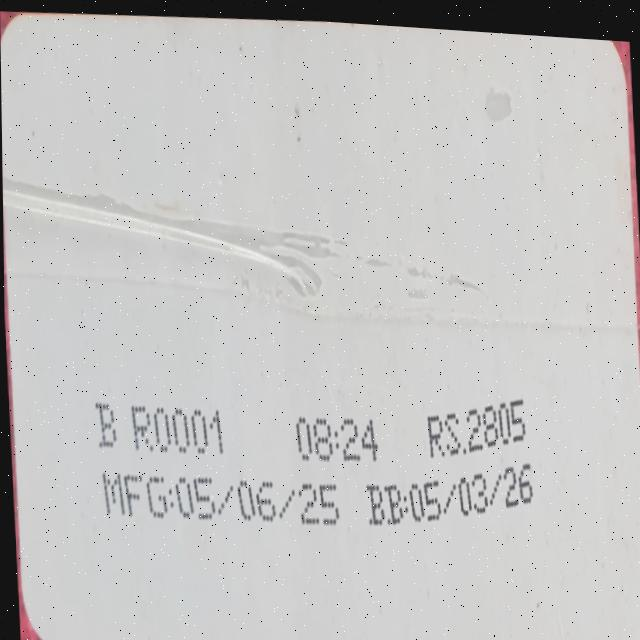BB: (88, 375, 238, 472), (362, 469, 542, 546)
MFG: (100, 463, 342, 548)
RS: (414, 399, 535, 468)
TimeStamp: (284, 405, 382, 471)
